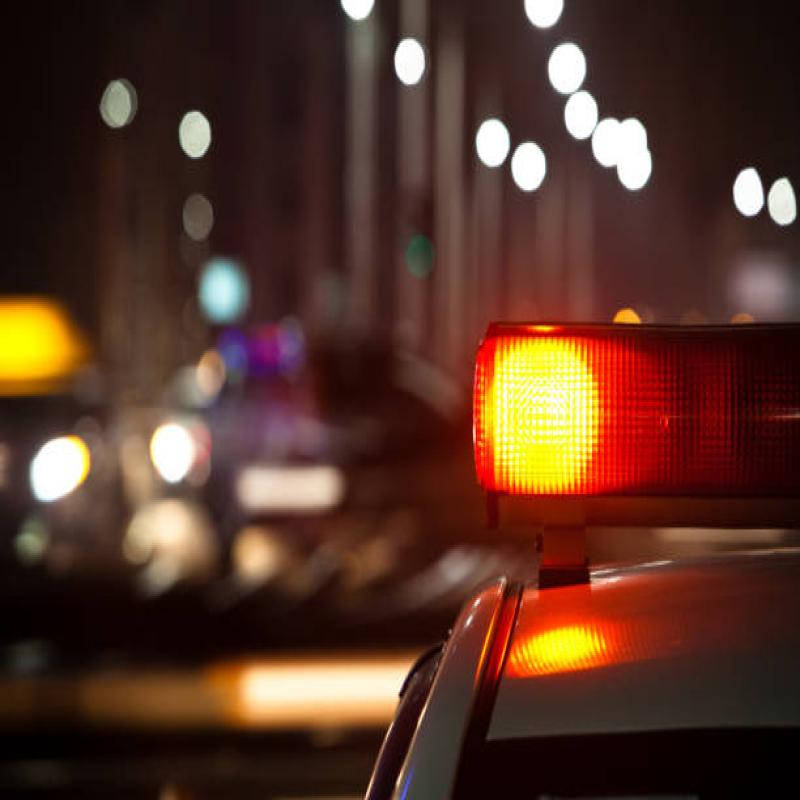AmbulanceSiren: (449, 248, 800, 538)
